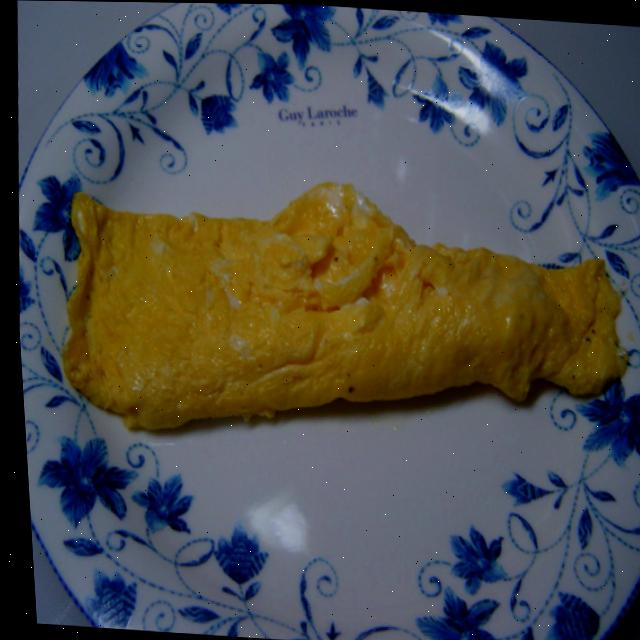鸡蛋料理: (13, 134, 640, 448)
